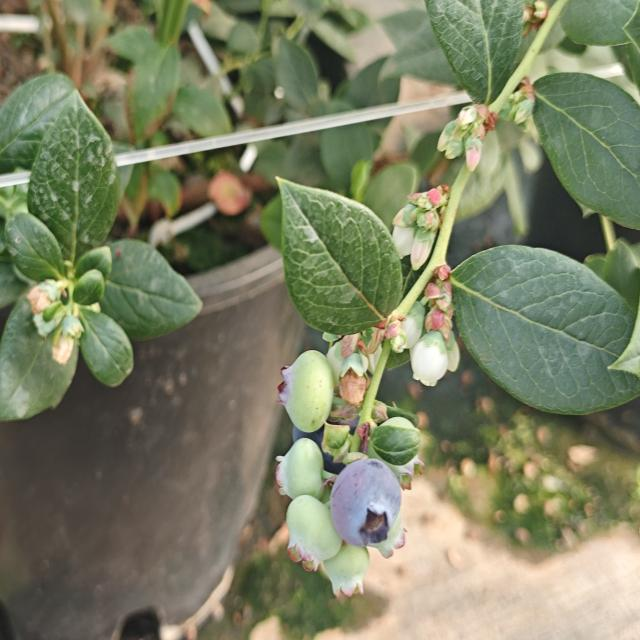ripe: (334, 448, 403, 556), (289, 397, 362, 473)
